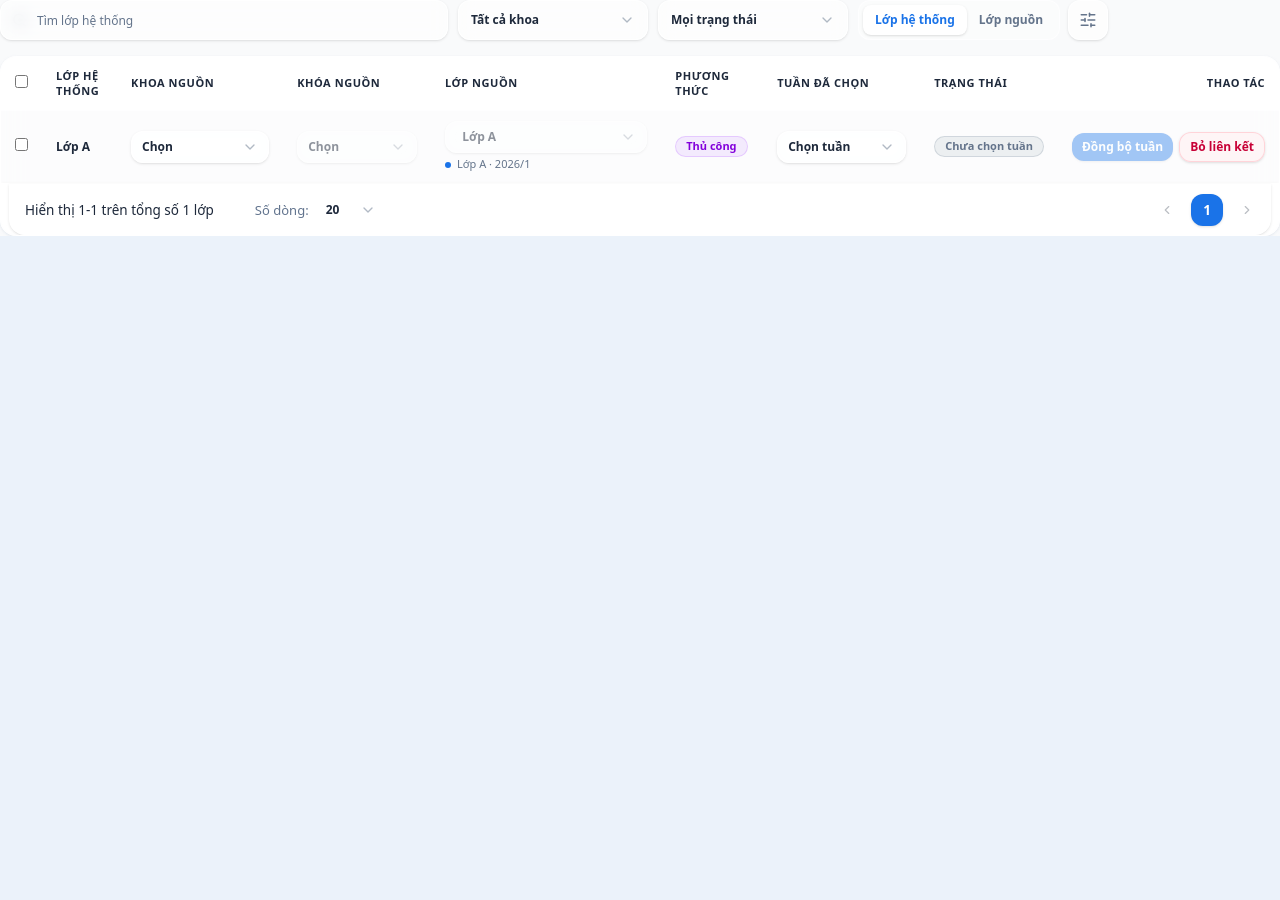
Scenario: TimetableSyncPanel › shows request failures in the dialog and reports no completion
Click the dropdown named "Tuần cho Lớp A" at [830, 147], box [788, 139, 871, 155]
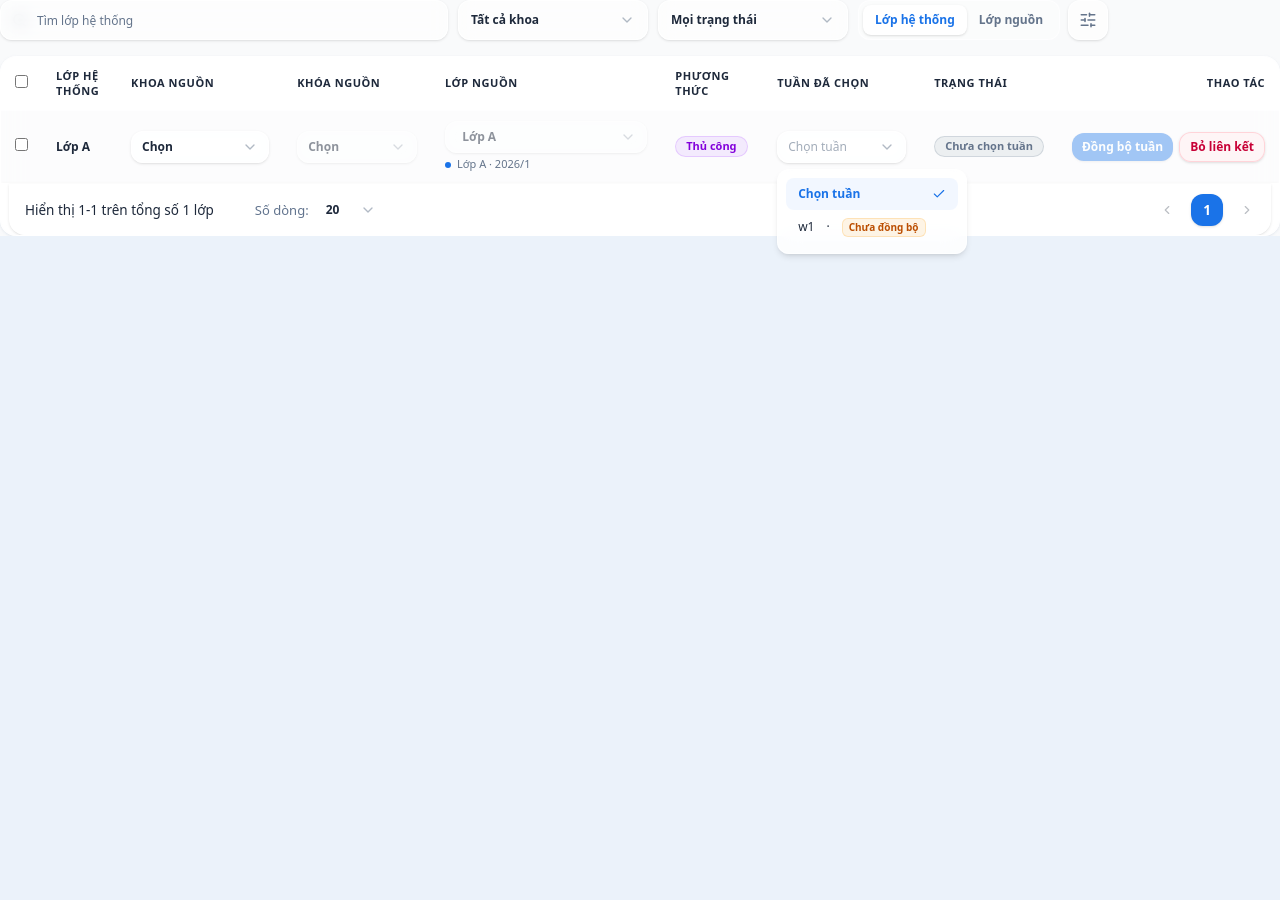
Click the option "w1 · Chưa đồng bộ" at [862, 227], box [798, 218, 926, 237]
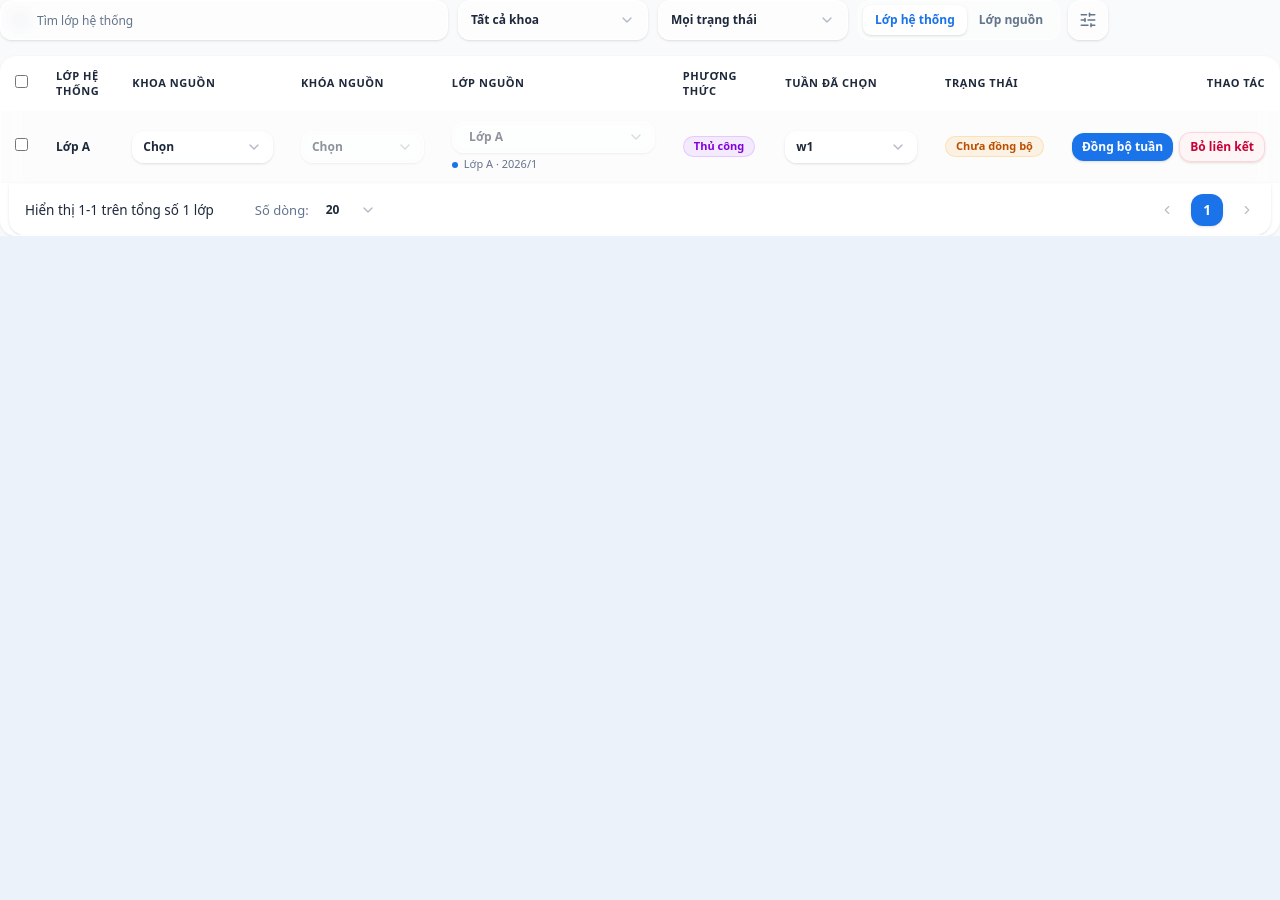
Click the button "Đồng bộ tuần" at [1123, 147], box [1072, 133, 1173, 161]
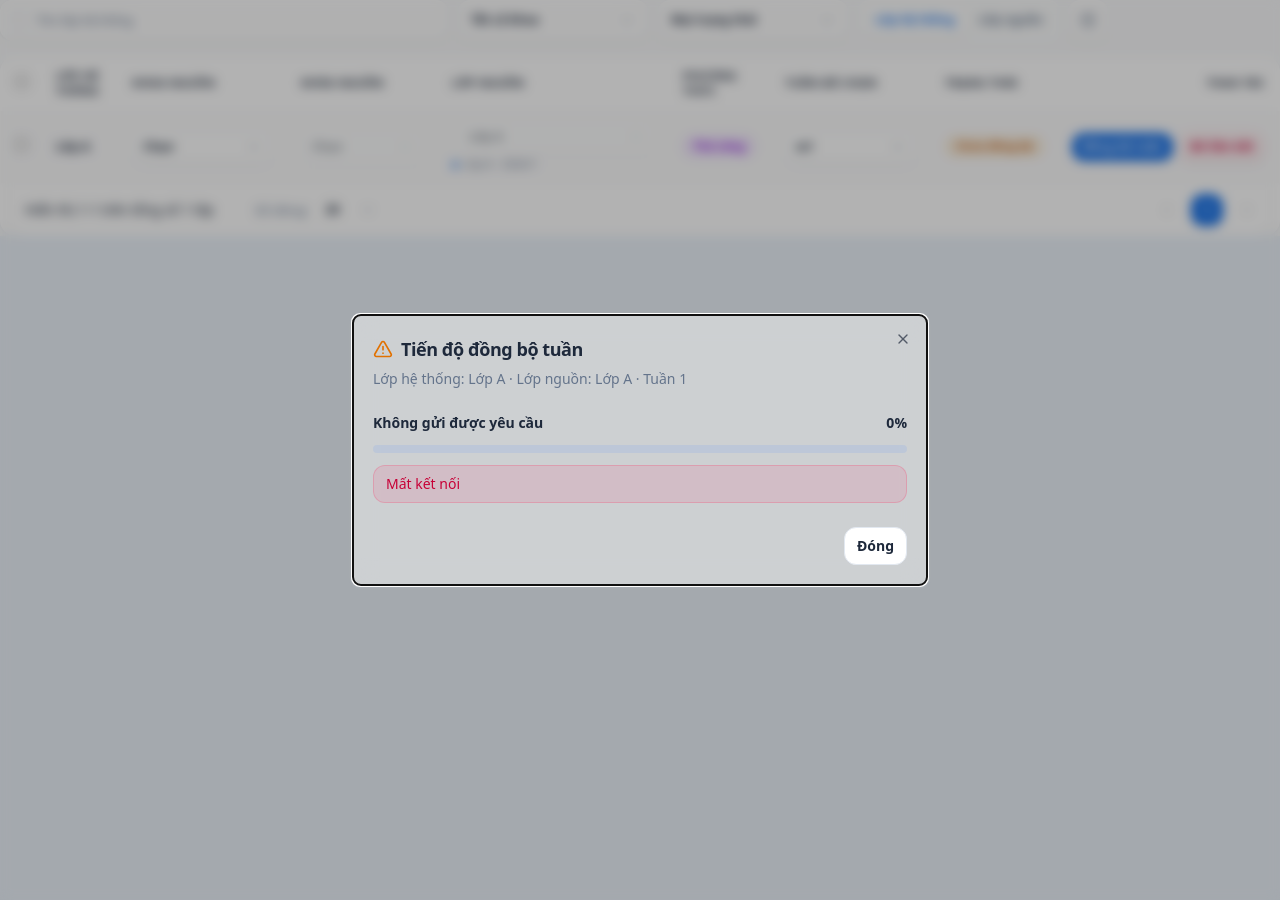
Now the message "Mất kết nối" is shown, box [373, 465, 907, 503]
Now the message reads "Mất kết nối", box [386, 474, 460, 493]
